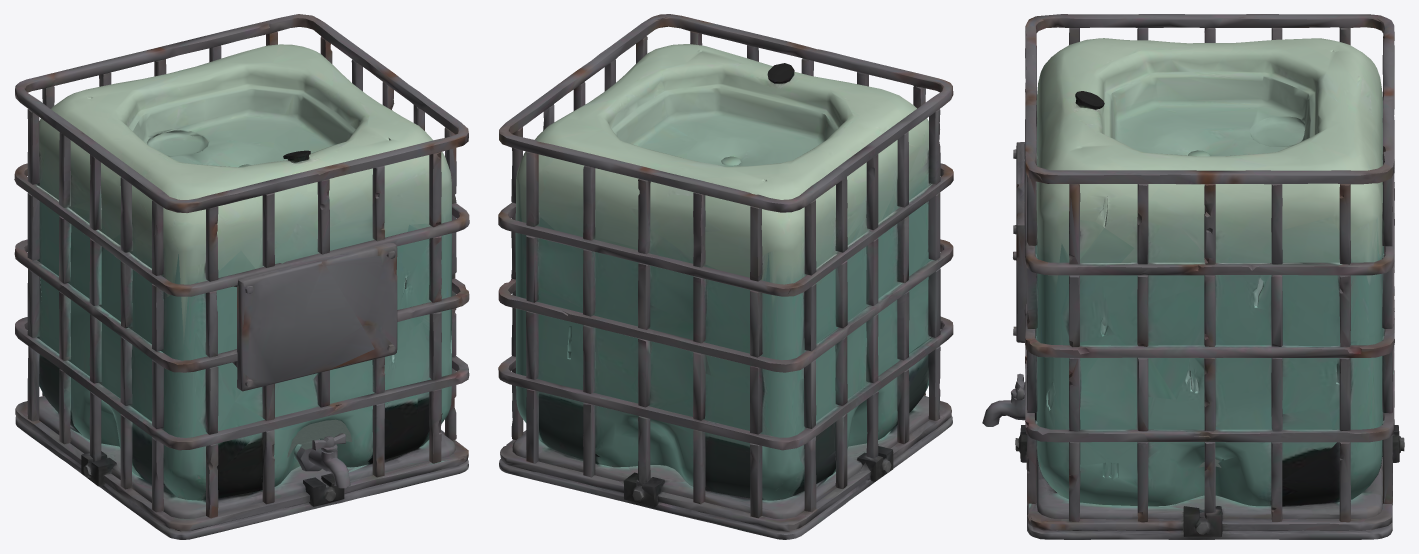
The model's file is tank_water_plastikovyy_1000_l.glb.
3 renders of one model, left to right at view 1: azimuth 30°, elevation 25°; view 2: azimuth 150°, elevation 25°; view 3: azimuth 270°, elevation 25°, orthographic. The views are drawn at different scales.
Parts seen in each view (by area): view 1: body, cap; view 2: body; view 3: body, cap.
Boxes of the visible parts, box(x1,y1,x2,y2) form: body: box(14, 14, 469, 539); cap: box(160, 129, 208, 155); body: box(498, 14, 953, 539); body: box(982, 14, 1404, 539); cap: box(1252, 129, 1305, 146).
Bounding box in the file's own units: 1.88 × 1.9 × 1.98.
3 materials, 3 textured.
